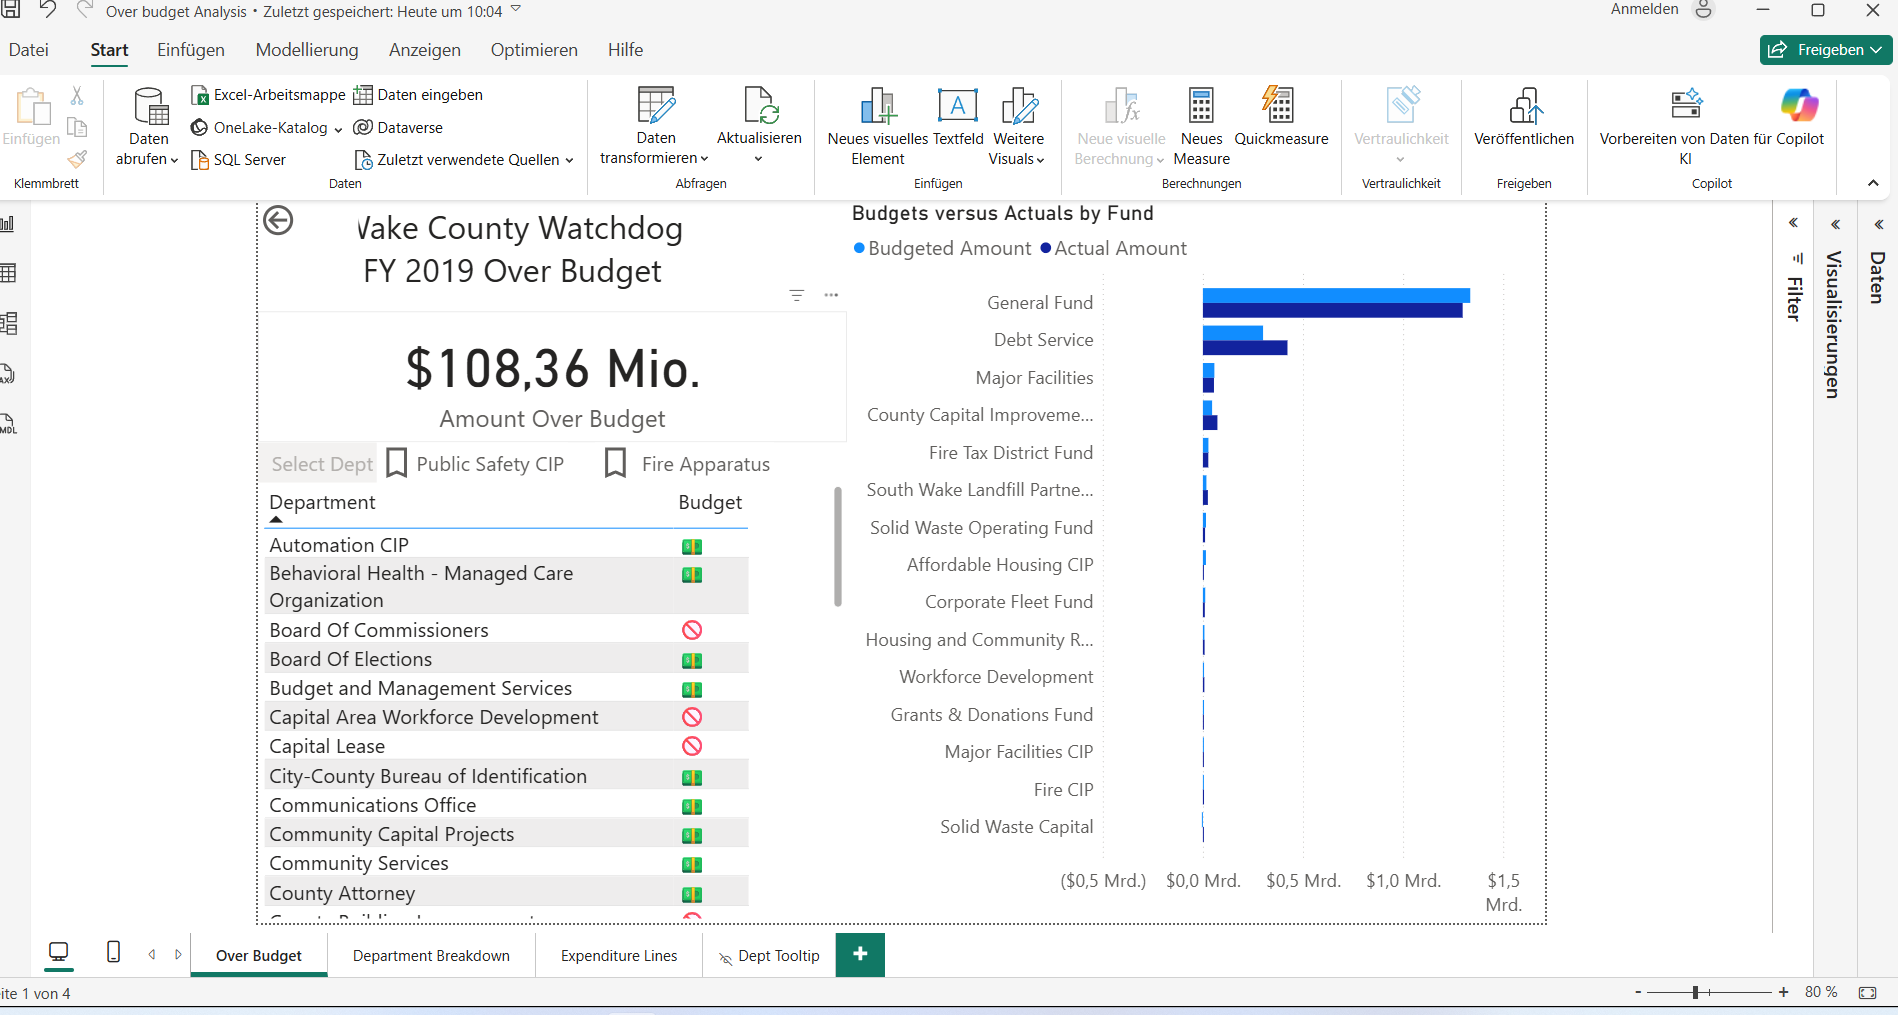

This screenshot's page, from the dashboard's own definition file:
{"tool":"powerbi","page":{"name":"Over Budget","canvas":[1280,720],"ordinal":0},"visuals":[{"type":"textbox","box":[0,0,506.2,110.2],"z":0},{"type":"clusteredBarChart","title":"Budgets versus Actuals by Fund","fields":{"Y":["Sum(Expenditures.Budgeted Amount)","Sum(Expenditures.Actual Amount)"],"Category":["Funds.Fund Name"]},"box":[586.5,0,693.5,720.3],"z":1000},{"type":"tableEx","fields":{"Values":["Cost Centers.Department","Expenditures.Budget Display"]},"box":[0,280.4,586.5,439.9],"z":2000},{"type":"card","fields":{"Values":["Expenditures.Amount Over Budget"]},"box":[0,110.5,586.4,130.8],"z":3000},{"type":"actionButton","box":[0,241.2,118.7,39.9],"z":4000},{"type":"actionButton","box":[118.7,241.2,190.6,39.9],"z":5000},{"type":"actionButton","box":[335.6,241.2,178,39.9],"z":6000},{"type":"actionButton","box":[0,0,100,40],"z":7000}]}

Visuals, with their boxes on the page's 1280x720 design canvas (x1, y1, x2, y2). These are canvas units, not pixel positions in the 1898x1015 screenshot, which may show the page scaled, cropped or inside an application window:
textbox: x1=0 y1=0 x2=506 y2=110
"Budgets versus Actuals by Fund" clusteredBarChart: x1=586 y1=0 x2=1280 y2=720
tableEx - Cost Centers.Department x Expenditures.Budget Display: x1=0 y1=280 x2=586 y2=720
card - Expenditures.Amount Over Budget: x1=0 y1=110 x2=586 y2=241
actionButton: x1=0 y1=241 x2=119 y2=281
actionButton: x1=119 y1=241 x2=309 y2=281
actionButton: x1=336 y1=241 x2=514 y2=281
actionButton: x1=0 y1=0 x2=100 y2=40
